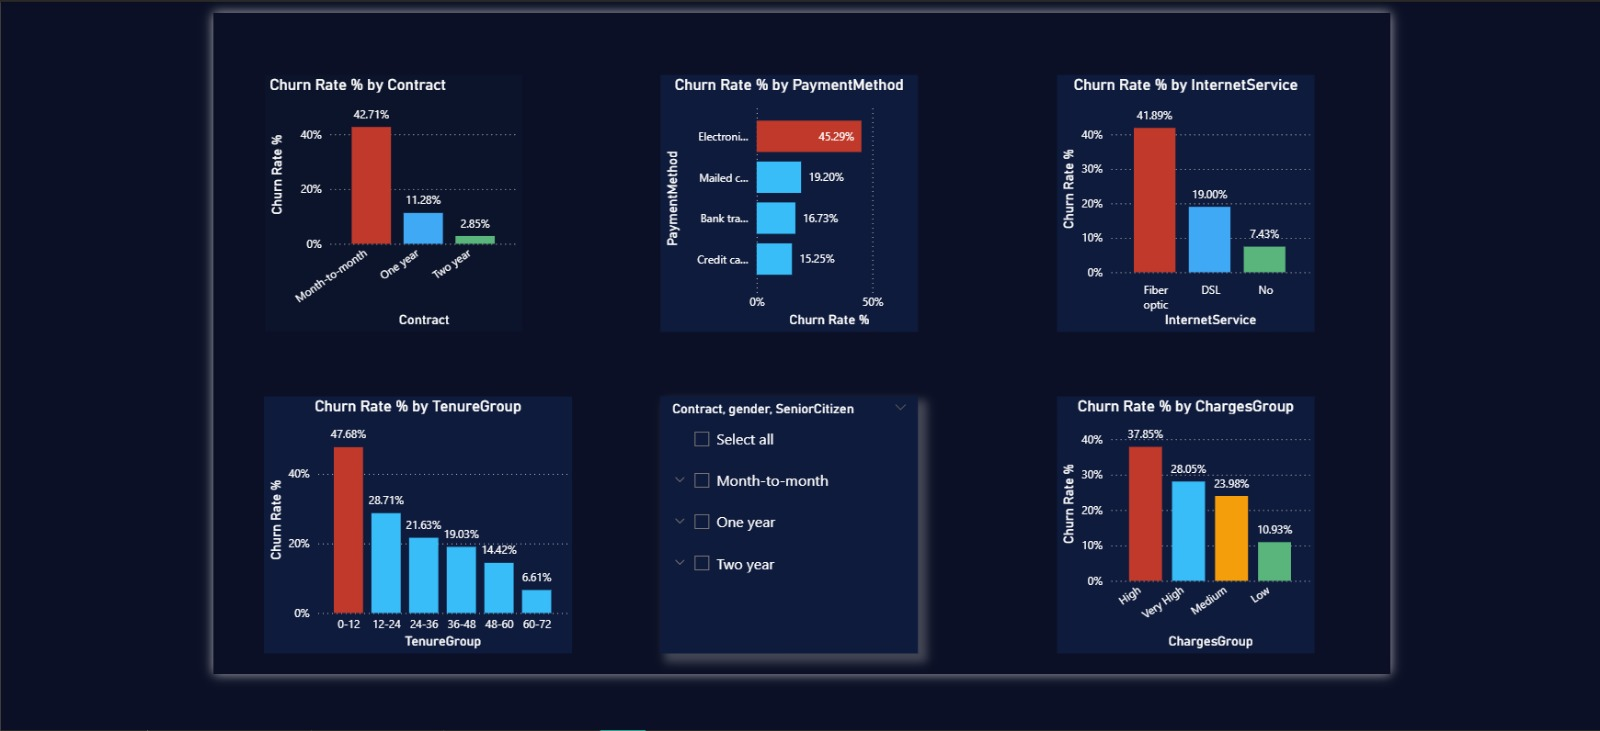

The dashboard page shown, as its layout file describes it:
{"tool":"powerbi","page":{"name":"Churn Drivers","canvas":[1280,720],"ordinal":1},"visuals":[{"type":"clusteredColumnChart","fields":{"Category":["Sheet1.Contract"],"Y":["Sheet1.Churn Rate %"]},"box":[56,67.2,279.9,279.9],"z":0},{"type":"clusteredBarChart","fields":{"Category":["Sheet1.PaymentMethod"],"Y":["Sheet1.Churn Rate %"]},"box":[486.5,67.2,279.9,279.9],"z":1000},{"type":"clusteredColumnChart","fields":{"Y":["Sheet1.Churn Rate %"],"Category":["Sheet1.InternetService"]},"box":[917,67.2,279.9,279.9],"z":2000},{"type":"clusteredColumnChart","fields":{"Y":["Sheet1.Churn Rate %"],"Category":["Sheet1.TenureGroup"]},"box":[55,417.5,335,280],"z":3000},{"type":"clusteredColumnChart","fields":{"Y":["Sheet1.Churn Rate %"],"Category":["Sheet1.ChargesGroup"]},"box":[917,418,279.9,279.9],"z":4000},{"type":"slicer","fields":{"Values":["Sheet1.Contract","Sheet1.gender","Sheet1.SeniorCitizen"]},"box":[486.2,417.5,280,280],"z":5000}]}

Visuals, with their boxes on the page's 1280x720 design canvas (x1, y1, x2, y2). These are canvas units, not pixel positions in the 1600x731 screenshot, which may show the page scaled, cropped or inside an application window:
clusteredColumnChart - Sheet1.Contract x Sheet1.Churn Rate %: detection(56, 67, 336, 347)
clusteredBarChart - Sheet1.PaymentMethod x Sheet1.Churn Rate %: detection(486, 67, 766, 347)
clusteredColumnChart - Sheet1.Churn Rate % x Sheet1.InternetService: detection(917, 67, 1197, 347)
clusteredColumnChart - Sheet1.Churn Rate % x Sheet1.TenureGroup: detection(55, 418, 390, 698)
clusteredColumnChart - Sheet1.Churn Rate % x Sheet1.ChargesGroup: detection(917, 418, 1197, 698)
slicer - Sheet1.Contract x Sheet1.gender: detection(486, 418, 766, 698)
